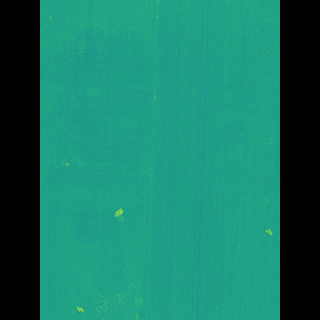Loch: (67, 12, 158, 254)
